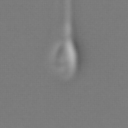abnormal: (57, 1, 82, 37)
